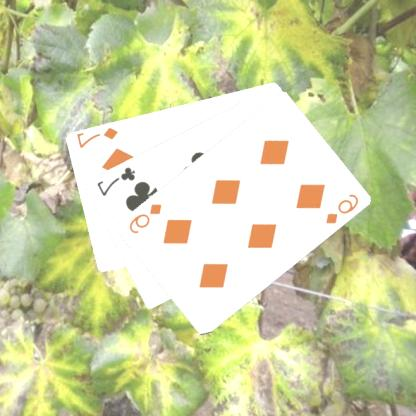6D: (127, 200, 165, 236), (324, 191, 362, 226)
7C: (96, 164, 138, 198)
7D: (76, 124, 121, 150)
